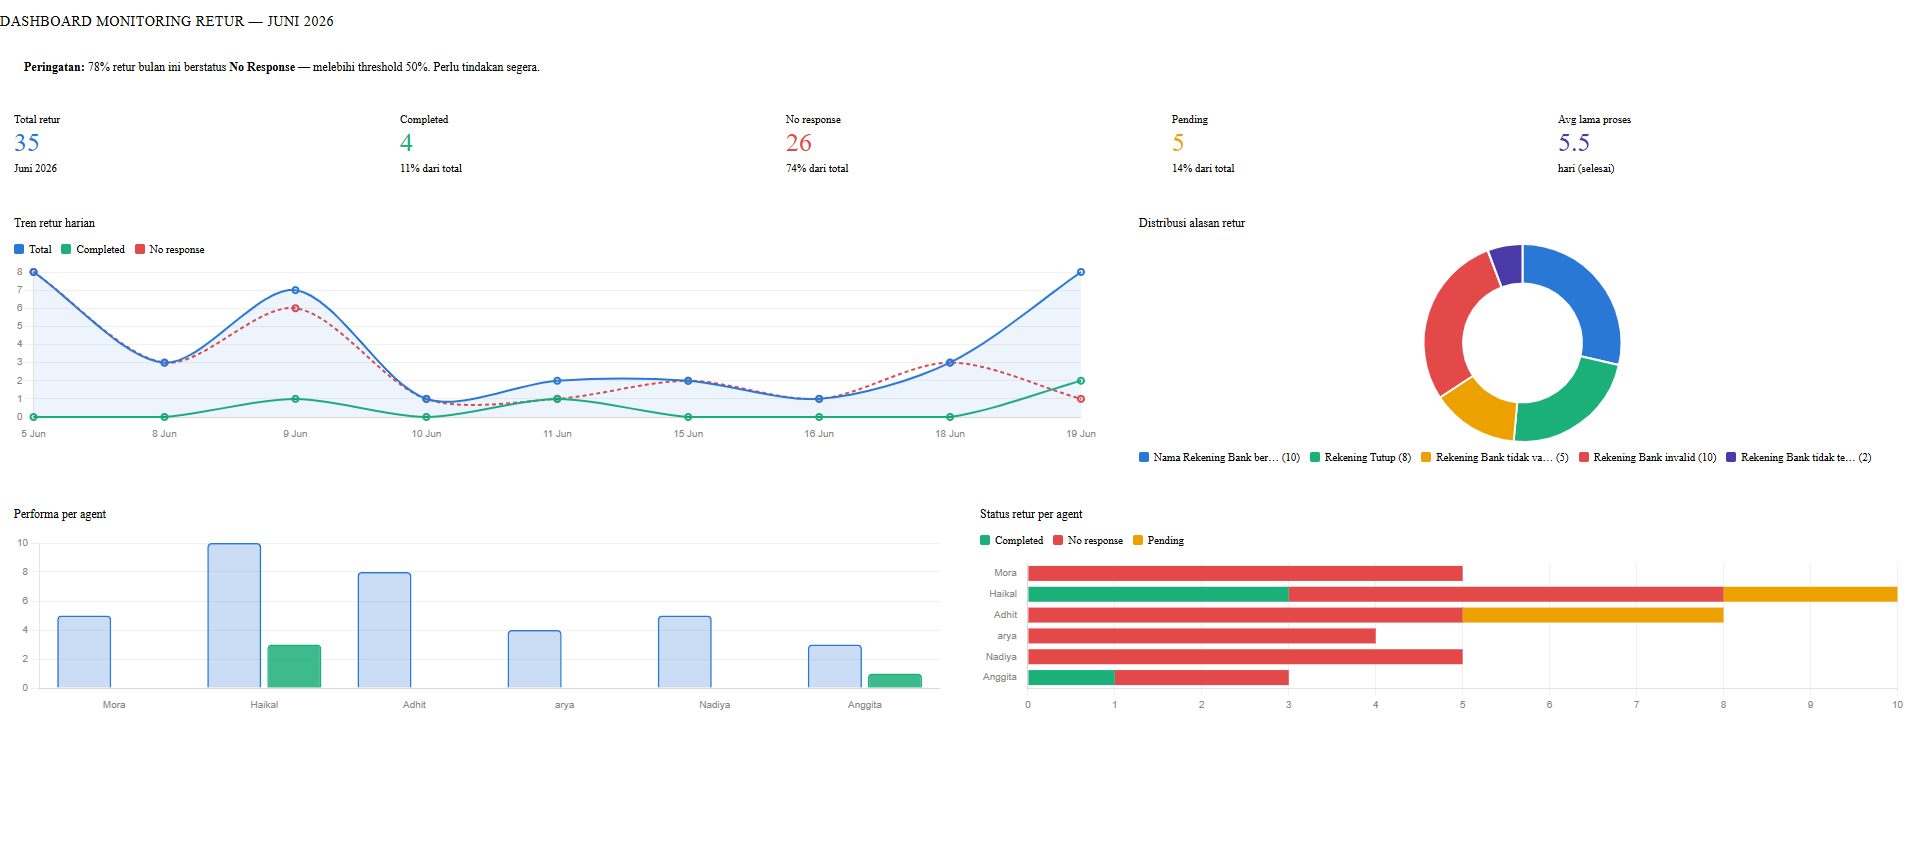

Layout of this report page (visuals, bound fields, positions):
{"tool":"powerbi","page":{"name":"Page 1","canvas":[1280,720],"ordinal":0},"visuals":[{"type":"textbox","box":[9.6,0,1270.7,63.1],"z":0},{"type":"textbox","box":[34.3,76.8,189.4,79.6],"z":1},{"type":"cardVisual","fields":{"Data":["DATA_RETUR.Total Retur","DATA_RETUR.Retur Completed","DATA_RETUR.Retur No Response","DATA_RETUR.Avg Lama Proses","DATA_RETUR.% Completion Rate"]},"box":[223.7,52.1,1056.6,104.3],"z":2},{"type":"lineChart","title":"Tren Retur Harian","fields":{"Category":["DATA_RETUR.Tanggal Input CS Retur.Variation.Date Hierarchy.Month","DATA_RETUR.Tanggal Input CS Retur.Variation.Date Hierarchy.Day"],"Y":["DATA_RETUR.Total Retur"],"Series":["DATA_RETUR.Status Retur"]},"box":[0,463.8,714.9,256.6],"z":3},{"type":"donutChart","title":"Distribusi Alasan Retur","fields":{"Category":["DATA_RETUR.Alasan Retur"],"Y":["DATA_RETUR.Total Retur"]},"box":[725.9,450.1,554.4,270.3],"z":4},{"type":"columnChart","title":"Status Retur Per Agent","fields":{"Category":["DATA_RETUR.Agent Name"],"Y":["DATA_RETUR.Retur Completed","DATA_RETUR.Retur No Response","DATA_RETUR.Retur Pending"]},"box":[820.6,156.4,430.9,267.6],"z":5},{"type":"clusteredBarChart","title":"Performa Per Agent","fields":{"Category":["DATA_RETUR.Agent Name"],"Y":["DATA_RETUR.Total Retur","DATA_RETUR.Retur Completed","DATA_RETUR.Retur No Response"]},"box":[9.6,156.4,764.3,293.7],"z":6}]}

Visuals, with their boxes on the page's 1280x720 design canvas (x1, y1, x2, y2). These are canvas units, not pixel positions in the 1917x857 screenshot, which may show the page scaled, cropped or inside an application window:
textbox: 10:0:1280:63
textbox: 34:77:224:156
cardVisual - DATA_RETUR.Total Retur x DATA_RETUR.Retur Completed: 224:52:1280:156
"Tren Retur Harian" lineChart: 0:464:715:720
"Distribusi Alasan Retur" donutChart: 726:450:1280:720
"Status Retur Per Agent" columnChart: 821:156:1252:424
"Performa Per Agent" clusteredBarChart: 10:156:774:450
